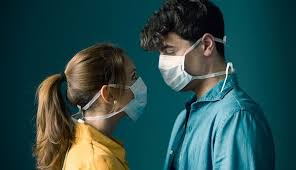with_mask: (88, 55, 153, 134), (150, 27, 220, 92)
